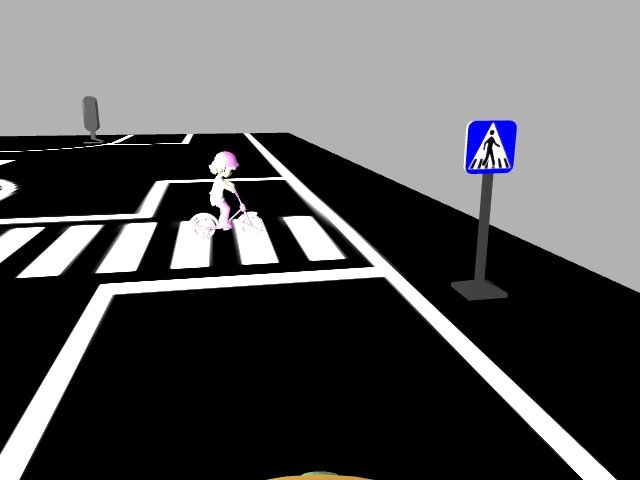Crosswalk: (460, 117, 523, 181)
Pedestrian: (192, 150, 268, 244)
